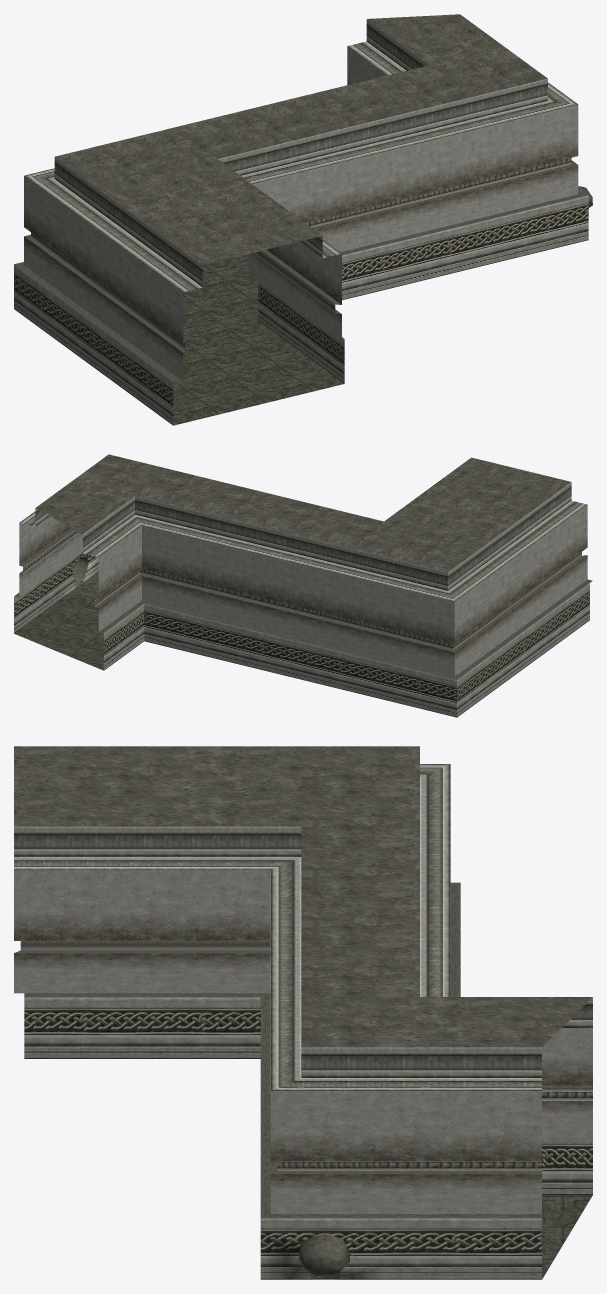
File: DWARF_PALACE_FORGE_HALLWAY02B01.fbx
3 views of the same model, one above another, from view 1: azimuth 30°, elevation 25°; view 2: azimuth 150°, elevation 25°; view 3: azimuth 270°, elevation 25° (orthographic). The views are drawn at different scales.
Visible parts, largest first — view 1: DWARF_PALACE_FORGE_HALLWAY02B01; view 2: DWARF_PALACE_FORGE_HALLWAY02B01; view 3: DWARF_PALACE_FORGE_HALLWAY02B01.
Boxes of the visible parts, bbox=[...] form: DWARF_PALACE_FORGE_HALLWAY02B01: bbox=[14, 14, 592, 425]; DWARF_PALACE_FORGE_HALLWAY02B01: bbox=[14, 454, 592, 717]; DWARF_PALACE_FORGE_HALLWAY02B01: bbox=[14, 746, 592, 1279].
Size of the model in its own units: 243489 by 70000 by 170721.
7 materials, 7 textured.
